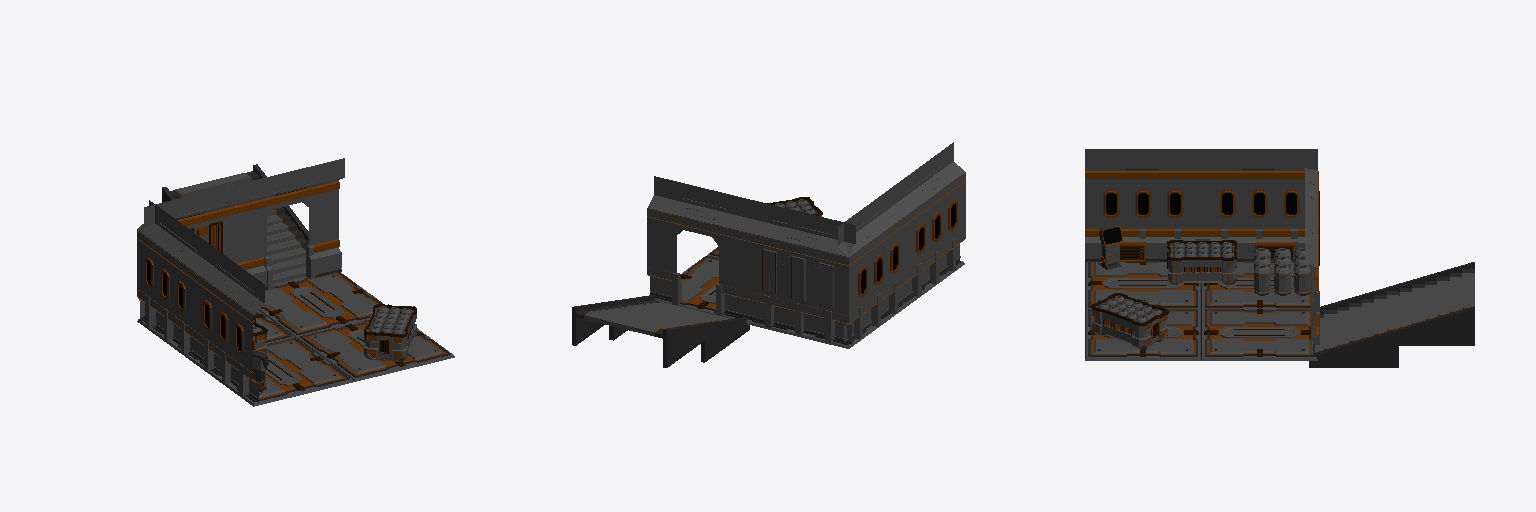
The model's file is Level2.obj.
3 renders of one model, left to right at view 1: azimuth 30°, elevation 25°; view 2: azimuth 150°, elevation 25°; view 3: azimuth 270°, elevation 25°, orthographic.
Parts seen in each view (by area): view 1: ThreeWindows_Wall_SideB_Plane.036, FloorTile_Basic2_Plane.003, DoorSingle_Wall_SideB_Plane.023, Wall_2_Plane.050, Staircase_Plane.001, Props_ContainerFull_Cube.001; view 2: ThreeWindows_Wall_SideB_Plane.036, Wall_2_Plane.050, DoorSingle_Wall_SideB_Plane.023, Staircase_Plane.001, FloorTile_Basic2_Plane.003; view 3: ThreeWindows_Wall_SideB_Plane.036, FloorTile_Basic2_Plane.003, Staircase_Plane.001, Props_ContainerFull_Cube.001, Props_ContainerFull_Cube.026, DoorSingle_Wall_SideB_Plane.023, Wall_2_Plane.050, Props_ComputerSmall_Cube.032, Props_Vessel_Short_Cube.002_Props_Vessel_Short_Cube.003, Props_Vessel_Short_Cube.001, Props_Vessel_Short_Cube.003_Props_Vessel_Short_Cube.004.
Part boxes in pixels (left/top/right/bottom): ThreeWindows_Wall_SideB_Plane.036: left=137, top=200, right=264, bottom=402; FloorTile_Basic2_Plane.003: left=137, top=271, right=454, bottom=406; DoorSingle_Wall_SideB_Plane.023: left=238, top=158, right=344, bottom=289; Wall_2_Plane.050: left=138, top=183, right=244, bottom=320; Staircase_Plane.001: left=162, top=164, right=336, bottom=285; Props_ContainerFull_Cube.001: left=364, top=304, right=416, bottom=361; ThreeWindows_Wall_SideB_Plane.036: left=838, top=142, right=965, bottom=344; Wall_2_Plane.050: left=748, top=201, right=855, bottom=344; DoorSingle_Wall_SideB_Plane.023: left=647, top=176, right=754, bottom=319; Staircase_Plane.001: left=572, top=295, right=749, bottom=367; FloorTile_Basic2_Plane.003: left=654, top=246, right=964, bottom=348; ThreeWindows_Wall_SideB_Plane.036: left=1085, top=149, right=1317, bottom=261; FloorTile_Basic2_Plane.003: left=1085, top=261, right=1317, bottom=360; Staircase_Plane.001: left=1309, top=262, right=1474, bottom=367; Props_ContainerFull_Cube.001: left=1091, top=293, right=1168, bottom=349; Props_ContainerFull_Cube.026: left=1167, top=239, right=1236, bottom=284; DoorSingle_Wall_SideB_Plane.023: left=1305, top=212, right=1319, bottom=354; Wall_2_Plane.050: left=1305, top=168, right=1319, bottom=299; Props_ComputerSmall_Cube.032: left=1099, top=226, right=1122, bottom=269; Props_Vessel_Short_Cube.002_Props_Vessel_Short_Cube.003: left=1274, top=248, right=1290, bottom=295; Props_Vessel_Short_Cube.001: left=1254, top=248, right=1270, bottom=295; Props_Vessel_Short_Cube.003_Props_Vessel_Short_Cube.004: left=1294, top=248, right=1310, bottom=295.
Size of the model in its own units: 20.18 by 12.18 by 33.5.